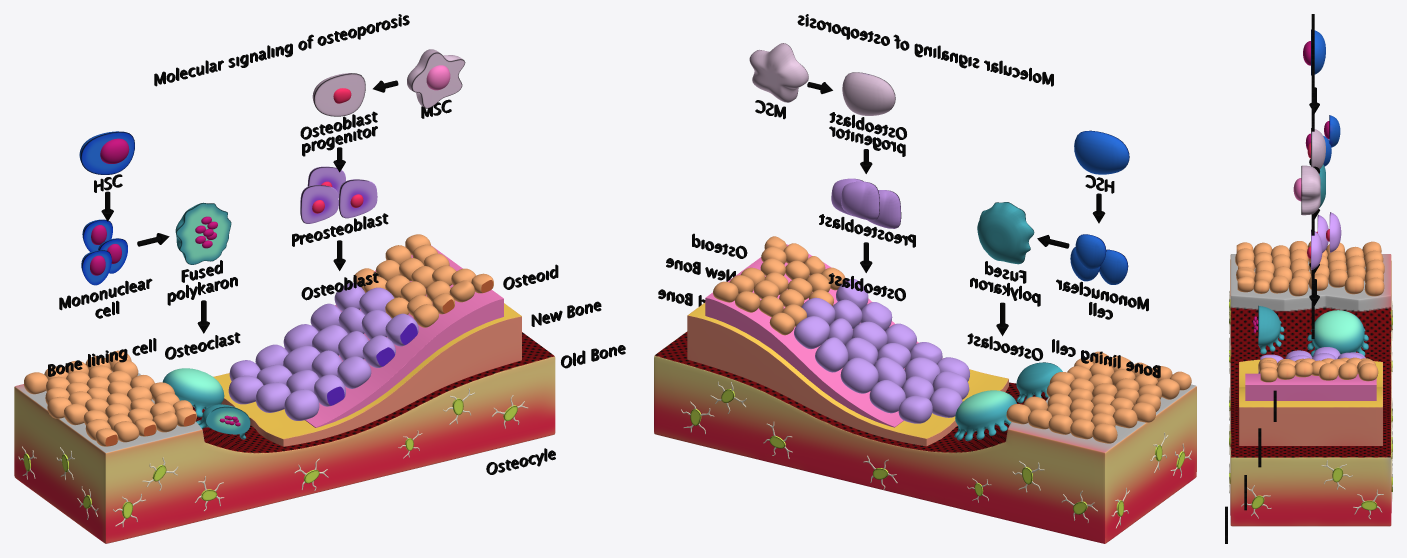
The model's file is molecular_signaling_of_osteoporosis.glb.
3 views of the same model, side by side, from view 1: azimuth 30°, elevation 25°; view 2: azimuth 150°, elevation 25°; view 3: azimuth 270°, elevation 25° (orthographic). The views are drawn at different scales.
Parts seen in each view (by area): view 1: polySurface243; view 2: polySurface243; view 3: polySurface243.
Part boxes in pixels (x1,y1,x2,y2): polySurface243: [14, 14, 625, 543]; polySurface243: [654, 14, 1196, 543]; polySurface243: [1225, 14, 1392, 543].
Bounding box in the file's own units: 0.2996 × 0.233 × 0.0924.
1 material, 1 textured.
